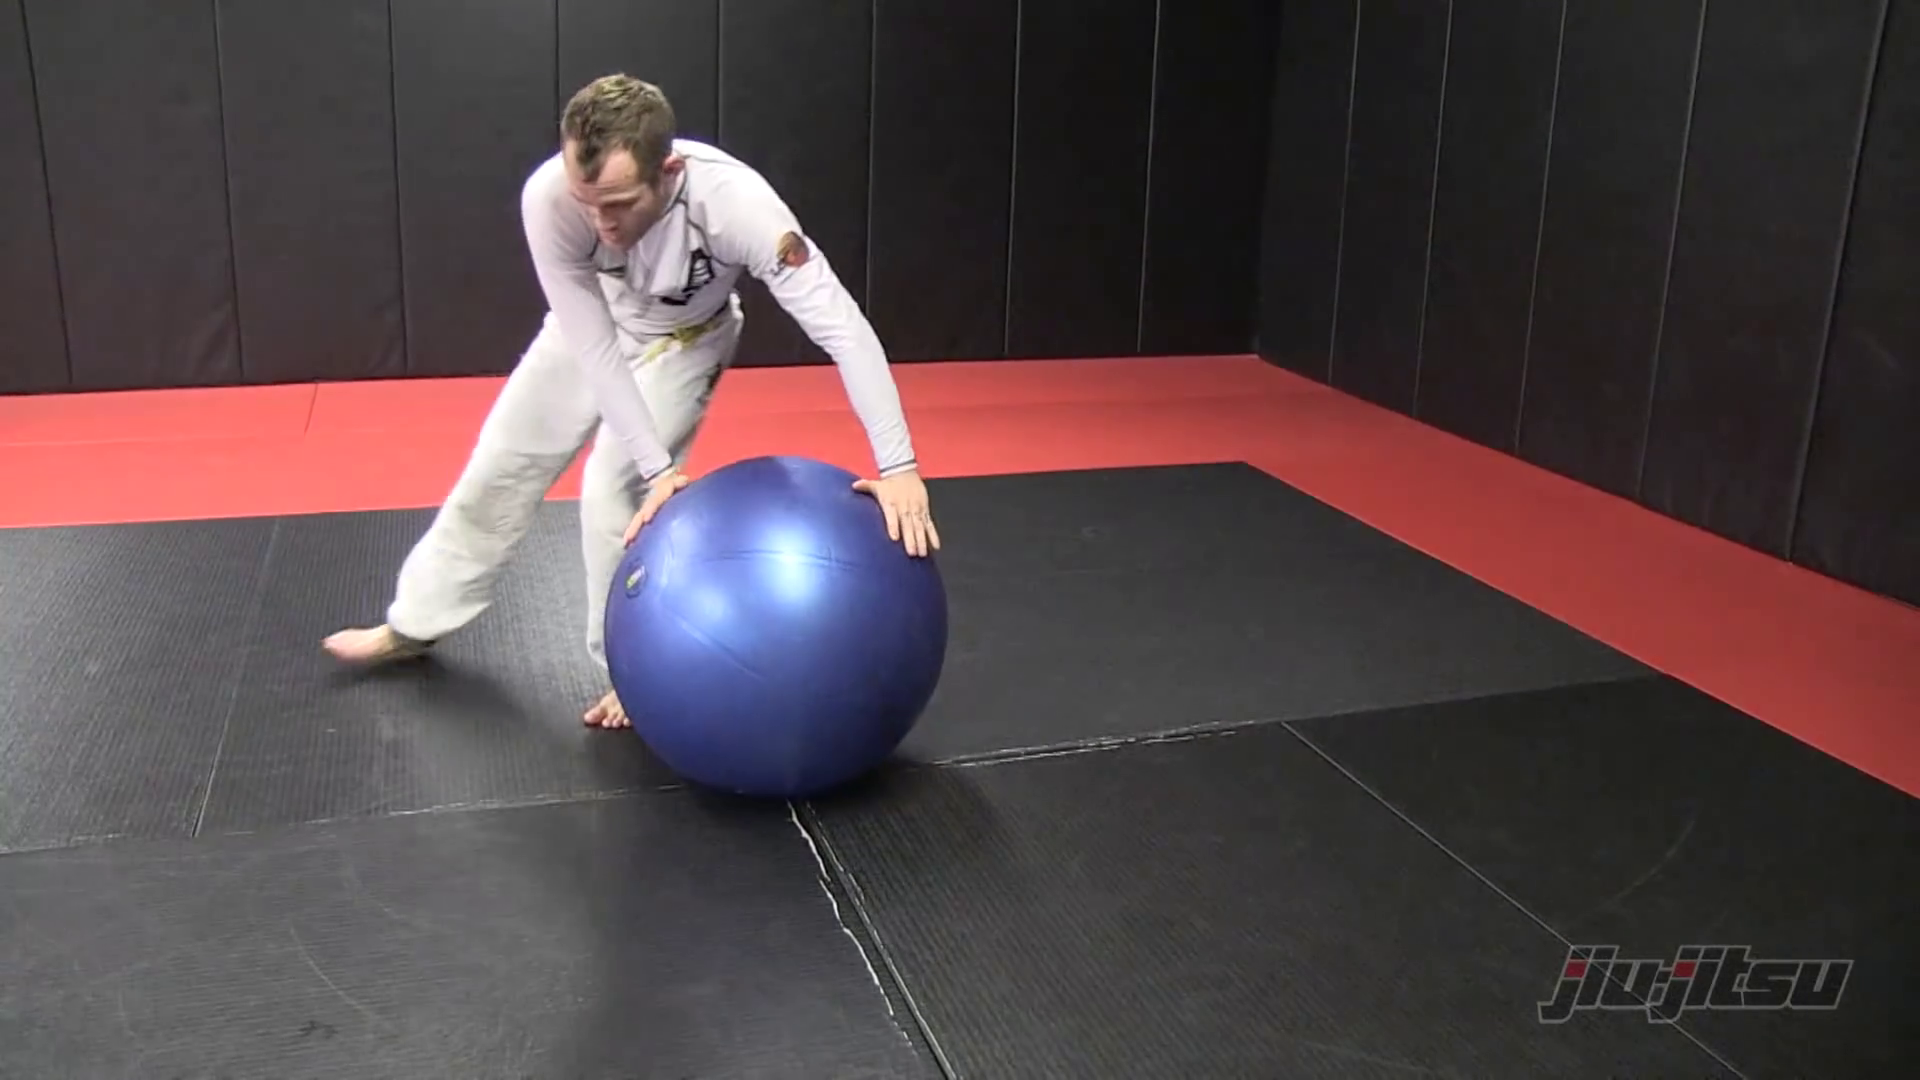yogaball: (597, 448, 971, 811)
